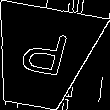P_S: (14, 29, 71, 86)
